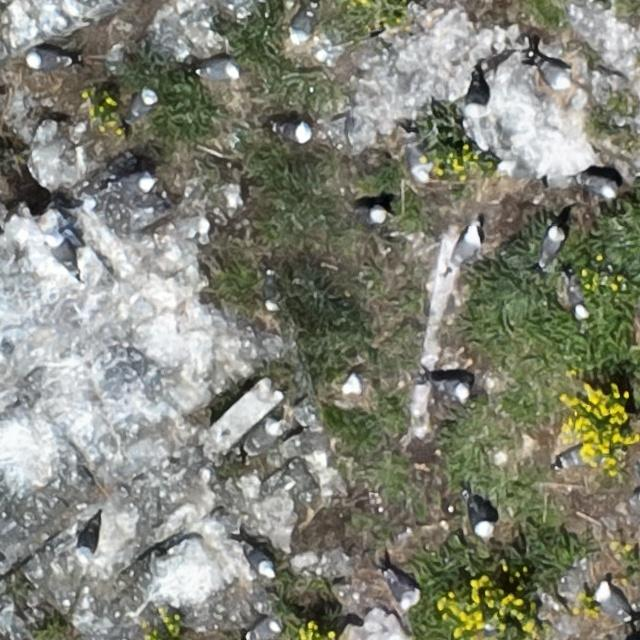umineko: (592, 582, 633, 623), (240, 536, 277, 580), (44, 236, 78, 278), (75, 517, 102, 566), (464, 68, 491, 117), (387, 572, 419, 608), (405, 141, 429, 184), (537, 60, 571, 87), (470, 501, 493, 536), (456, 228, 478, 264), (201, 59, 239, 79), (291, 8, 314, 40), (121, 176, 157, 196), (29, 51, 66, 70), (130, 89, 154, 118), (542, 227, 562, 261), (278, 123, 312, 142), (436, 378, 468, 398), (582, 178, 614, 198), (567, 281, 584, 316), (249, 619, 279, 638), (264, 275, 278, 309), (362, 205, 387, 224)
